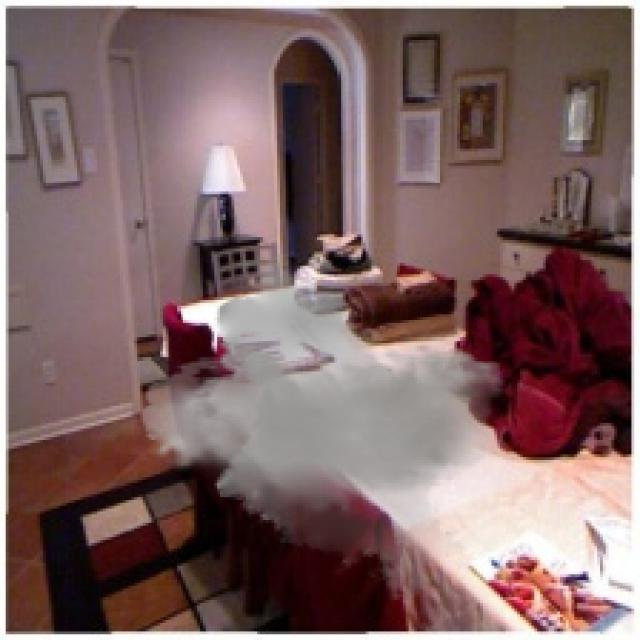Smoke: (140, 252, 506, 608)
